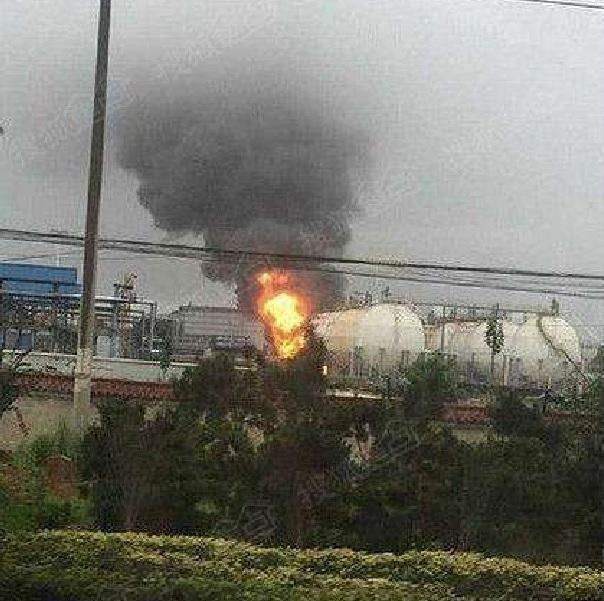fire: (253, 266, 311, 360)
